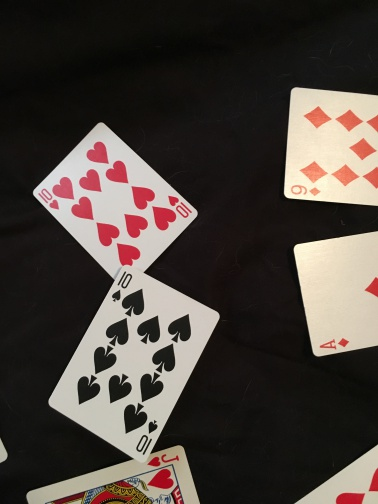ace: (294, 231, 378, 357)
jack: (30, 443, 204, 504)
nine: (283, 85, 378, 208)
ten: (50, 264, 220, 458), (32, 121, 197, 271)
